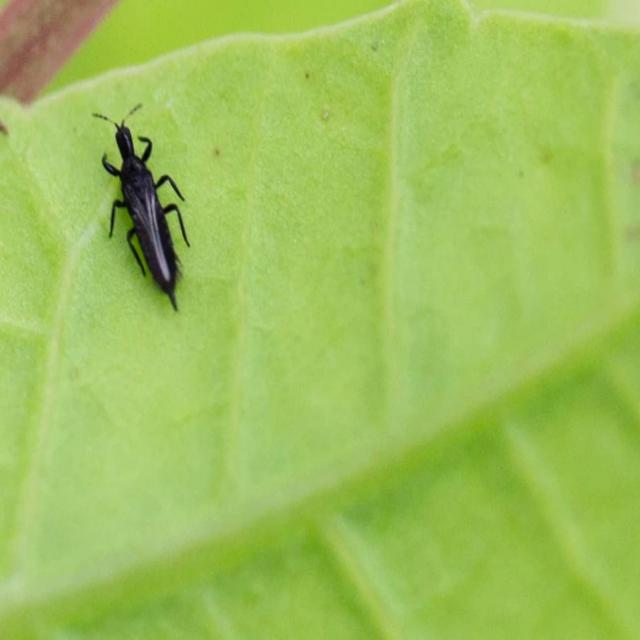Thrip-Adult-: (86, 98, 204, 321)
